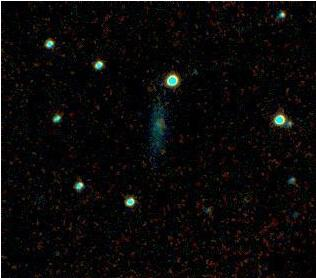star: (148, 133, 178, 163)
